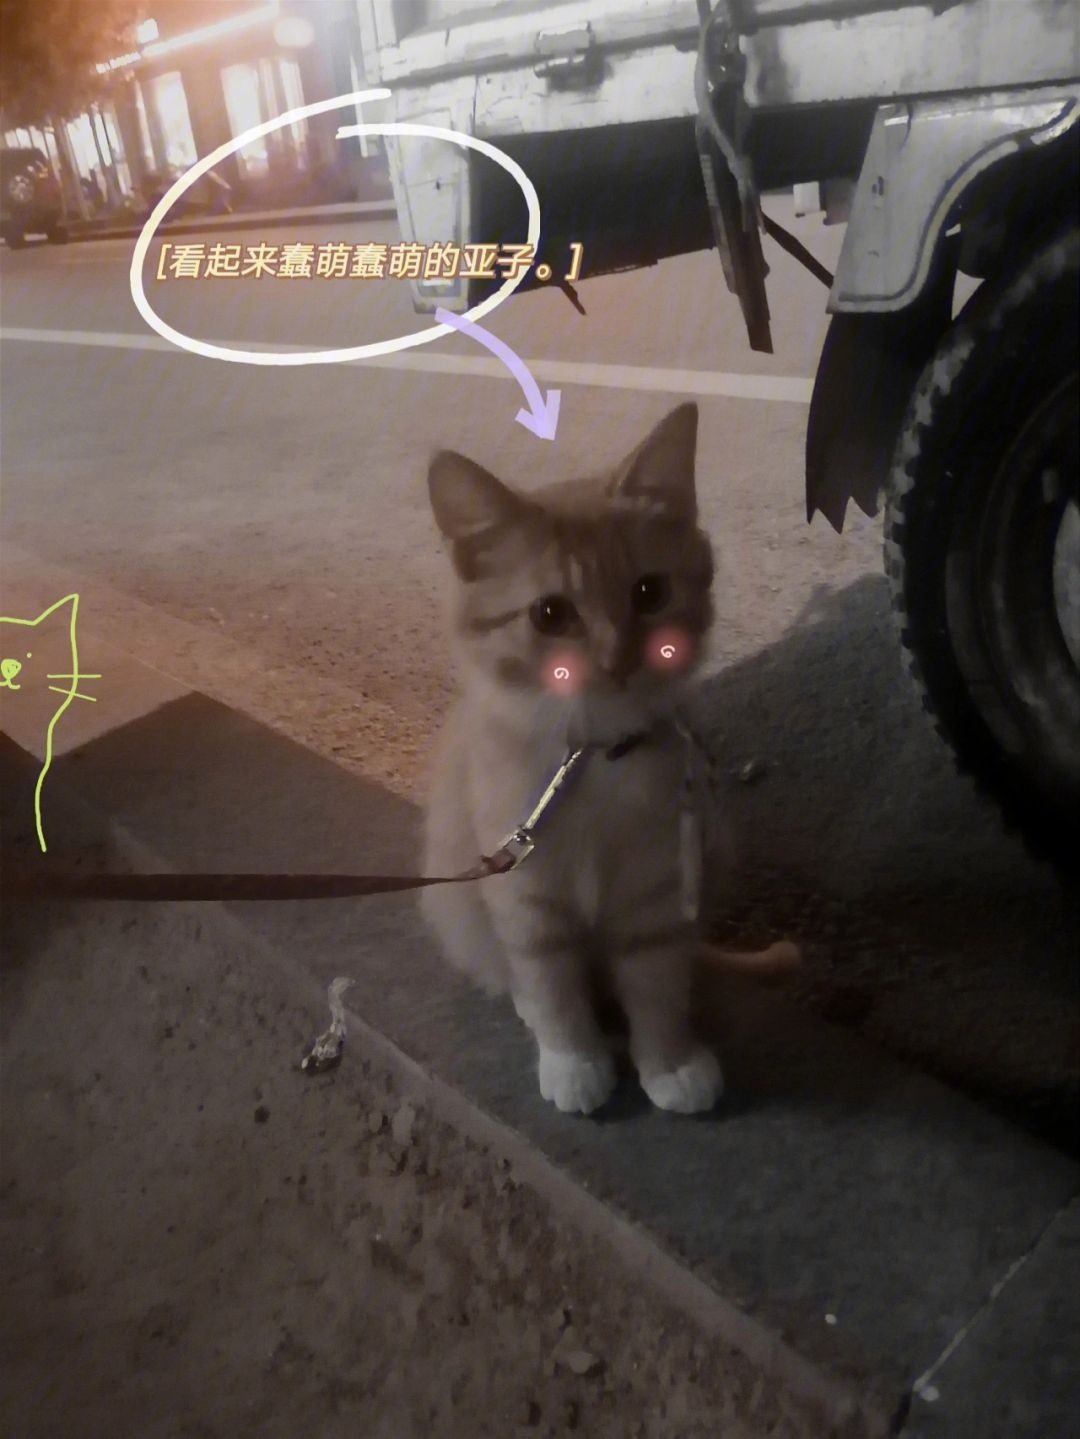cat: (417, 393, 725, 1120)
